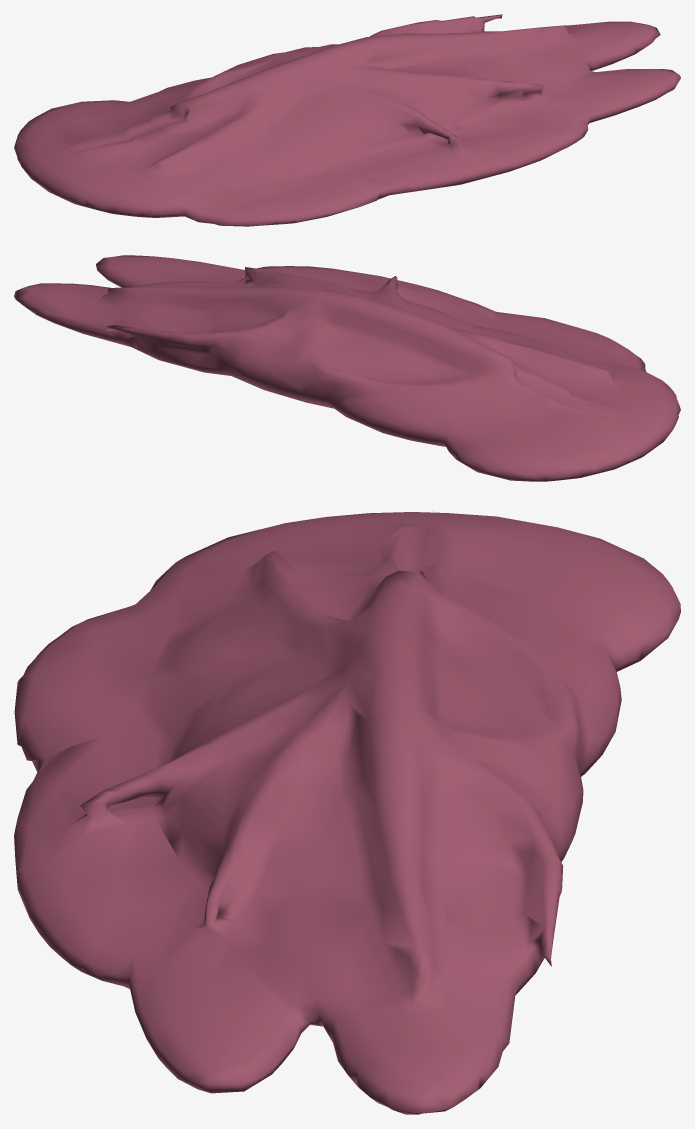
The model's file is plasmodial_tissue_lod2.glb.
3 renders of one model, top to bottom at view 1: azimuth 30°, elevation 25°; view 2: azimuth 150°, elevation 25°; view 3: azimuth 270°, elevation 25°, orthographic. The views are drawn at different scales.
Visible parts, largest first — view 1: Watertight_Plasmodium.001; view 2: Watertight_Plasmodium.001; view 3: Watertight_Plasmodium.001.
Part boxes in pixels (<box>): Watertight_Plasmodium.001: <box>14,14,680,226</box>; Watertight_Plasmodium.001: <box>14,255,680,481</box>; Watertight_Plasmodium.001: <box>14,510,680,1114</box>.
Bounding box in the file's own units: 5.91 × 0.81 × 2.81.
